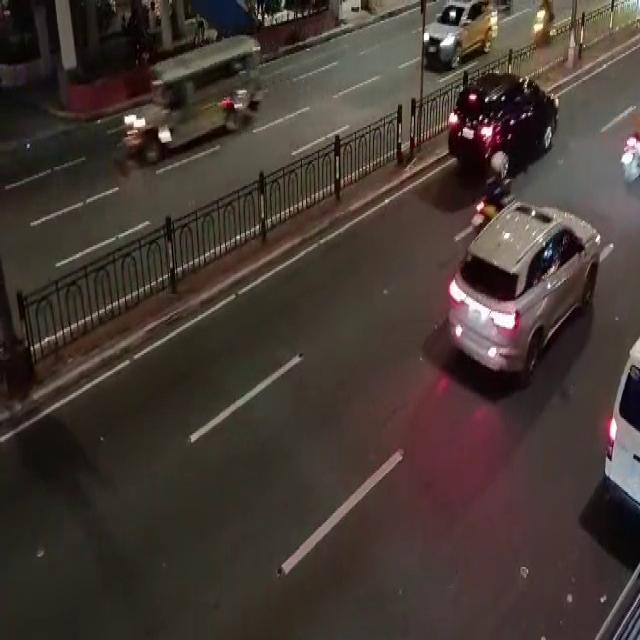car: (440, 184, 608, 403), (435, 55, 579, 184)
jeepney: (97, 22, 290, 195)
